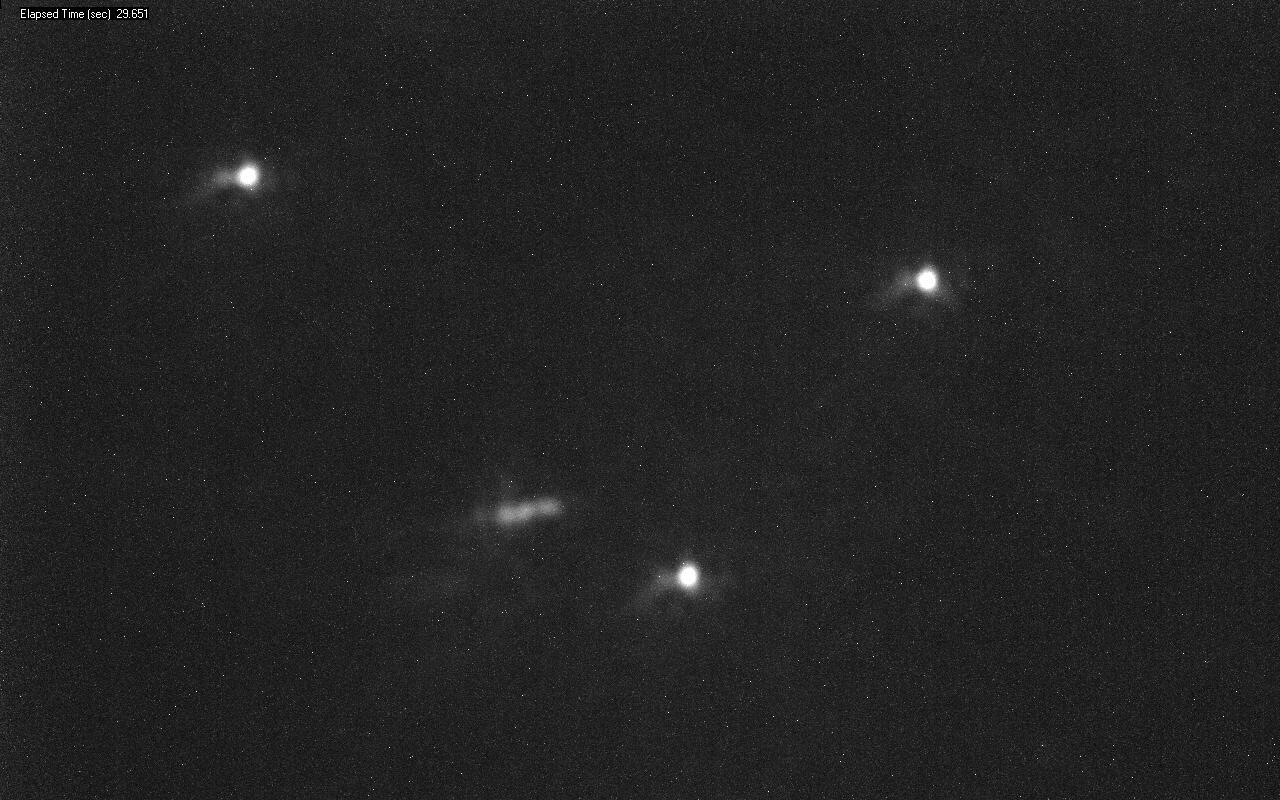Bead: (911, 264, 940, 295), (231, 163, 260, 190), (676, 564, 698, 586)
